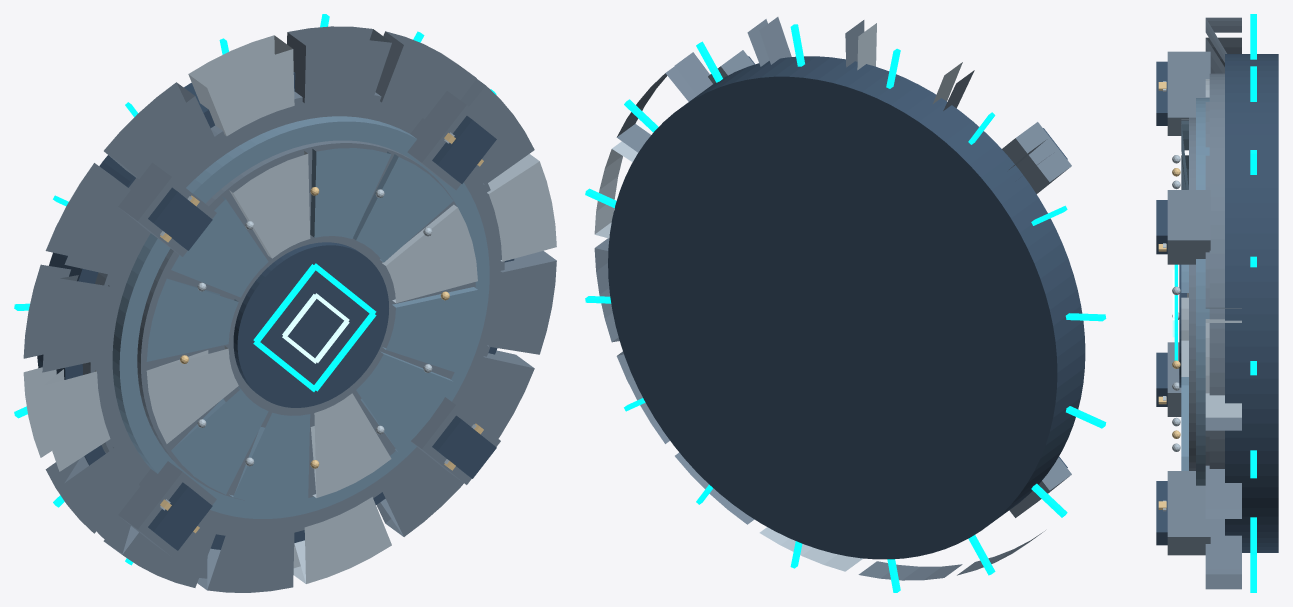
The model's file is sci_fi_floating_platform_no_spikes.glb.
The picture shows the model from 3 angles, left to right: view 1: azimuth 30°, elevation 25°; view 2: azimuth 150°, elevation 25°; view 3: azimuth 270°, elevation 25°; orthographic projection. The views are drawn at different scales.
Parts seen in each view (by area): view 1: Inset deck, Central control pad, Upper armored rim, Deck surface, Perimeter armor panel 5, Perimeter armor panel 8, Perimeter armor panel 4, Perimeter armor panel 6, Perimeter armor panel 9, Perimeter armor panel 7, Deck radial panel 2, Deck radial panel 1 (+29 smaller); view 2: Main chassis core, Power module 2, Perimeter armor panel 1, Perimeter armor panel 4, Perimeter armor panel 2, Perimeter armor panel 3, Perimeter armor panel 12, Perimeter armor panel 13, Perimeter armor panel 5, Perimeter armor panel 16, Power module 3, Perimeter armor panel 14; view 3: Main chassis core, Upper armored rim, Power module 4, Inset deck, Power module 1, Power module 2, Perimeter armor panel 16, Deck surface, Perimeter armor panel 15, Perimeter armor panel 1, Power module 3, Perimeter armor panel 6 (+20 smaller).
Part boxes in pixels (x1=…): Inset deck: x1=112, y1=116, x2=489, y2=518; Central control pad: x1=233, y1=242, x2=388, y2=407; Upper armored rim: x1=82, y1=91, x2=504, y2=535; Deck surface: x1=137, y1=140, x2=475, y2=500; Perimeter armor panel 5: x1=188, y1=35, x2=294, y2=136; Perimeter armor panel 8: x1=23, y1=264, x2=110, y2=372; Perimeter armor panel 4: x1=287, y1=26, x2=391, y2=103; Perimeter armor panel 6: x1=104, y1=82, x2=217, y2=179; Perimeter armor panel 9: x1=23, y1=367, x2=110, y2=471; Perimeter armor panel 7: x1=45, y1=163, x2=139, y2=275; Deck radial panel 2: x1=353, y1=154, x2=453, y2=262; Deck radial panel 1: x1=382, y1=204, x2=477, y2=303; Main chassis core: x1=608, y1=56, x2=1085, y2=559; Power module 2: x1=1002, y1=122, x2=1071, y2=193; Perimeter armor panel 1: x1=594, y1=141, x2=637, y2=238; Perimeter armor panel 4: x1=759, y1=17, x2=864, y2=67; Perimeter armor panel 2: x1=616, y1=66, x2=696, y2=152; Perimeter armor panel 3: x1=674, y1=19, x2=769, y2=95; Perimeter armor panel 12: x1=858, y1=561, x2=962, y2=580; Perimeter armor panel 13: x1=759, y1=527, x2=862, y2=571; Perimeter armor panel 5: x1=857, y1=23, x2=962, y2=103; Perimeter armor panel 16: x1=594, y1=238, x2=619, y2=342; Power module 3: x1=1009, y1=457, x2=1071, y2=517; Perimeter armor panel 14: x1=675, y1=452, x2=754, y2=524; Main chassis core: x1=1225, y1=54, x2=1278, y2=552; Upper armored rim: x1=1209, y1=73, x2=1224, y2=468; Power module 4: x1=1167, y1=471, x2=1210, y2=555; Inset deck: x1=1196, y1=98, x2=1209, y2=485; Power module 1: x1=1167, y1=190, x2=1210, y2=264; Power module 2: x1=1167, y1=51, x2=1210, y2=135; Perimeter armor panel 16: x1=1205, y1=417, x2=1241, y2=509; Deck surface: x1=1189, y1=117, x2=1195, y2=470; Perimeter armor panel 15: x1=1205, y1=509, x2=1241, y2=569; Perimeter armor panel 1: x1=1205, y1=319, x2=1241, y2=417; Power module 3: x1=1167, y1=342, x2=1181, y2=416; Perimeter armor panel 6: x1=1205, y1=17, x2=1241, y2=62.
Size of the model in its own units: 5.87 by 5.87 by 1.25.
